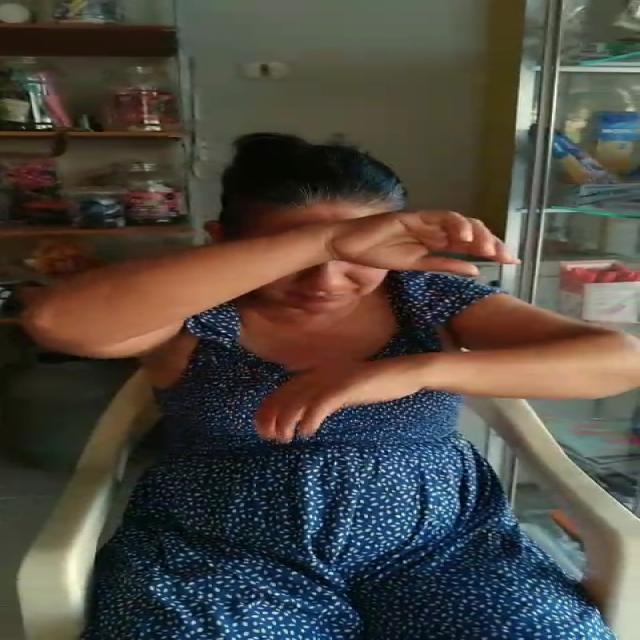7_mano_rostro: (213, 206, 421, 330)
